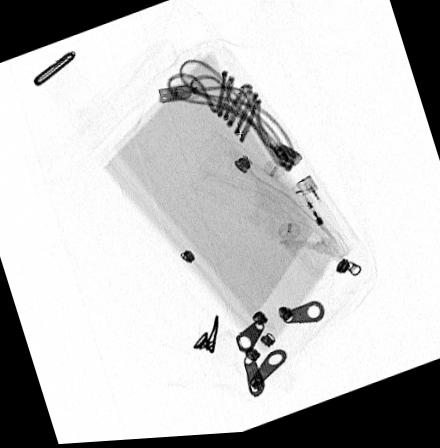Lighter: (290, 177, 351, 266)
